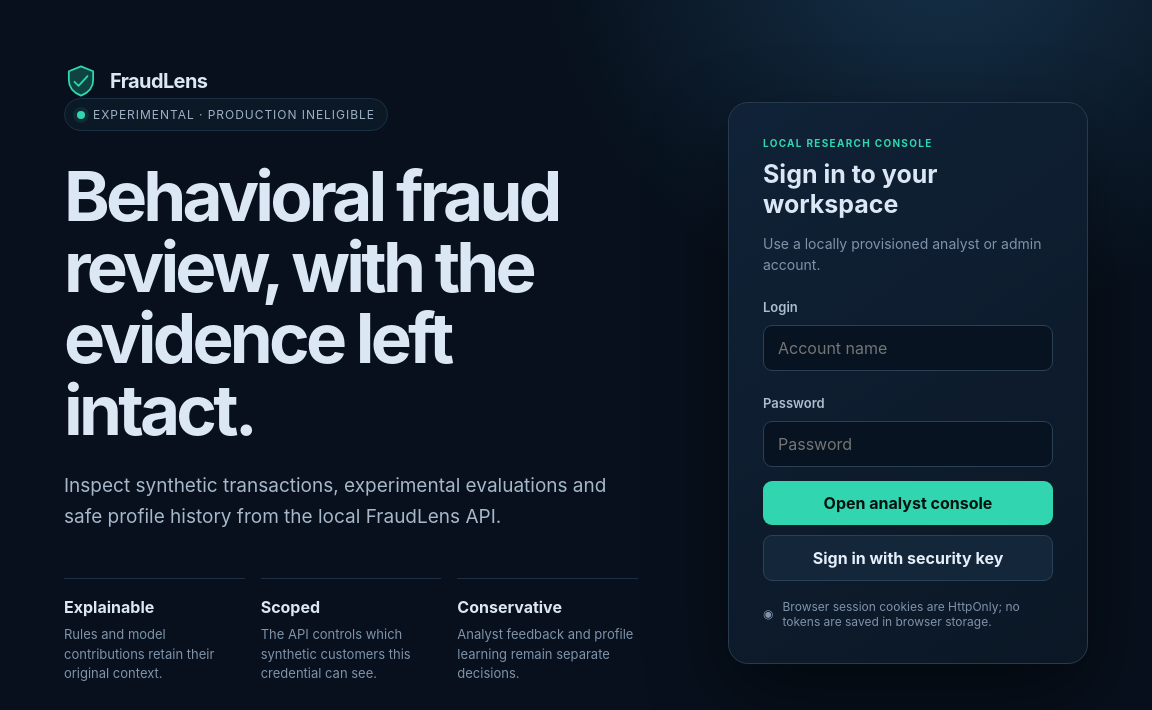
Test: analyst console › uses a human session without browser token storage
Type "analyst-one" into the field labelled "Login" at (908, 348), box [763, 325, 1053, 371]
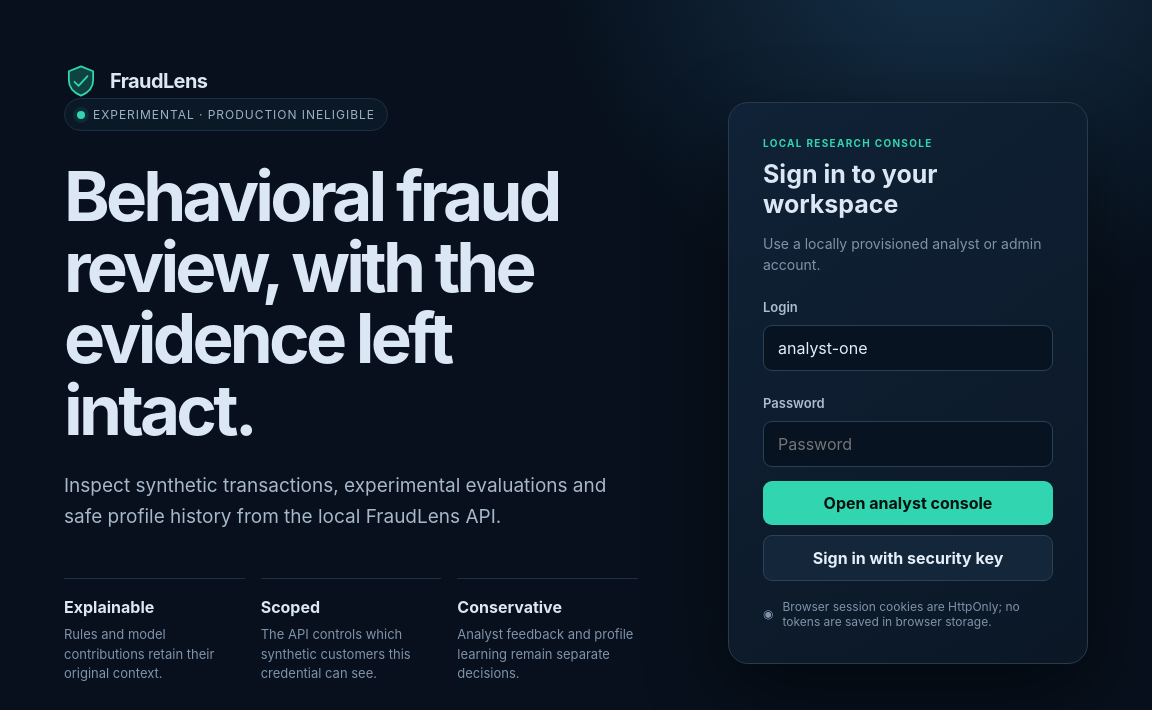
Type "long password" into the password field labelled "Password" at (908, 444), box [763, 421, 1053, 467]
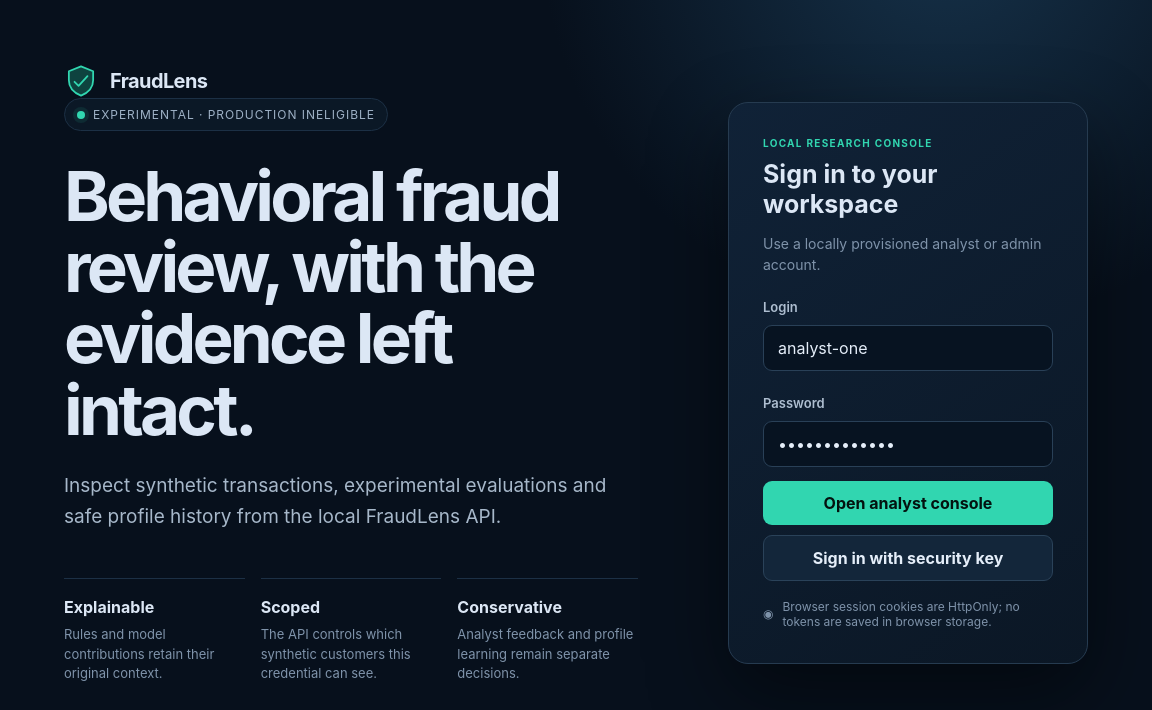
Click the button "Open analyst console" at (908, 503), box [763, 481, 1053, 525]
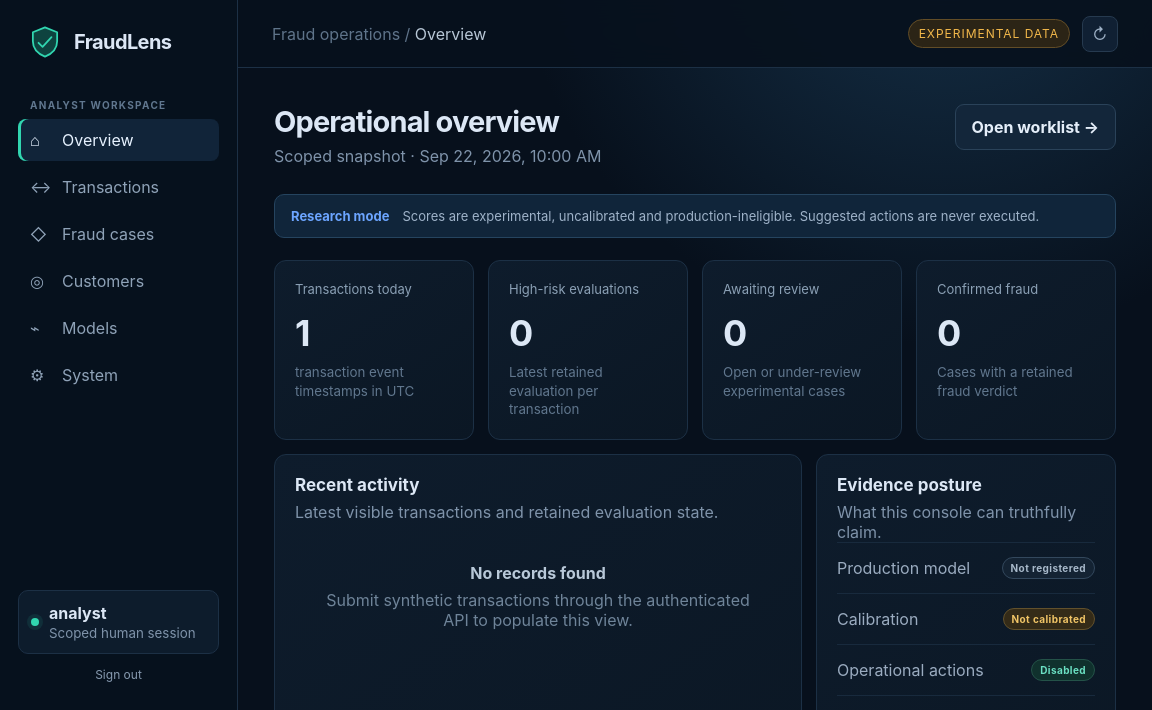
Now the text "Not registered" is shown, box [1002, 557, 1095, 579]
Now the text "Not calibrated" is shown, box [1002, 608, 1095, 630]
